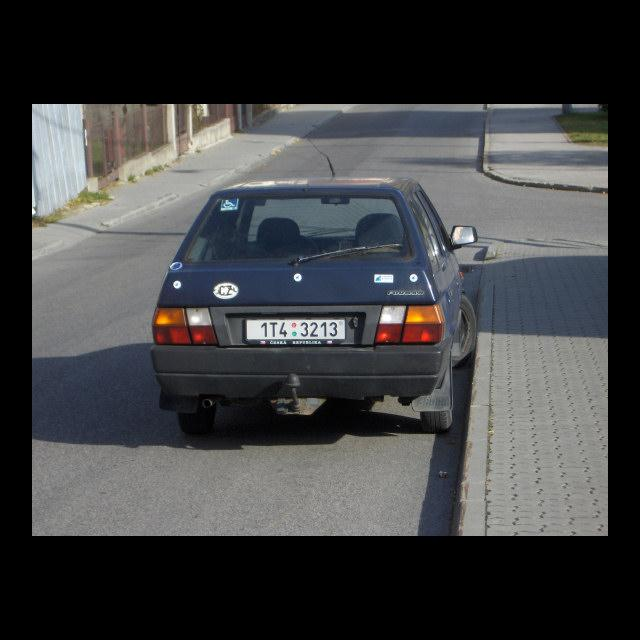Plate: (243, 315, 347, 342)
